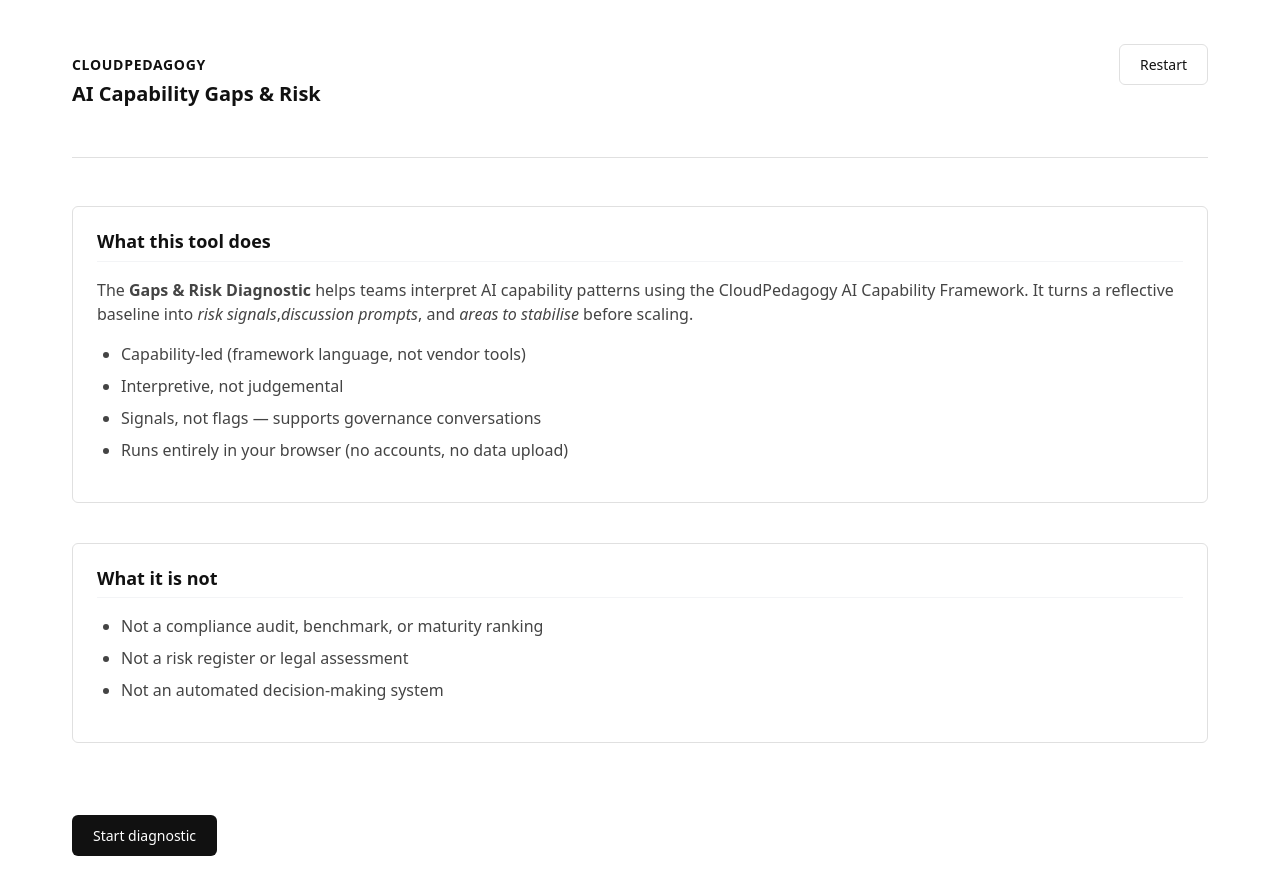
Application End-to-End Workflow & Navigation › toggles 'Why this matters' expandable panel on ResultsView
Click the button "Start diagnostic" at (144, 836), box [72,815,217,856]
(page scrolled)
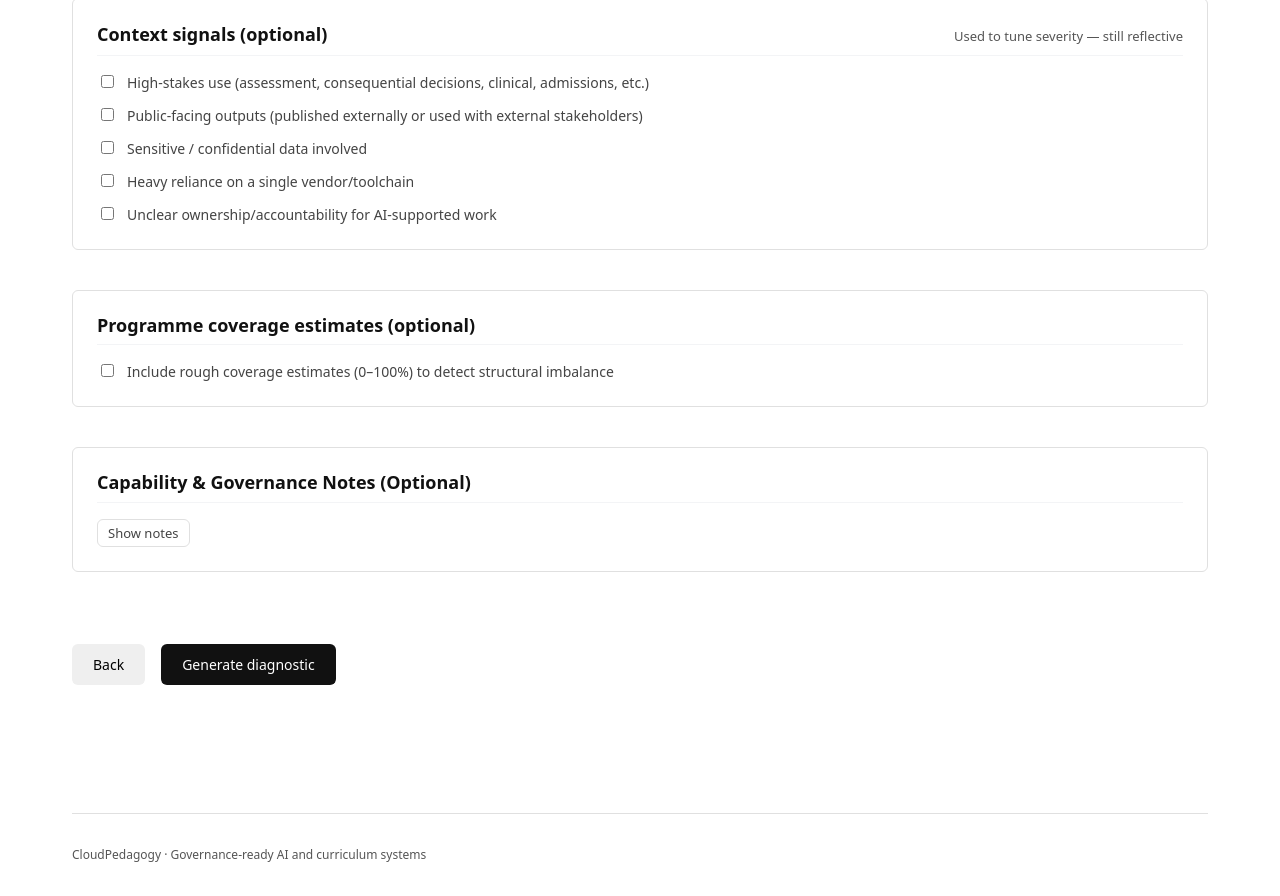
Click the button "Generate diagnostic" at (248, 664), box [161,644,336,685]
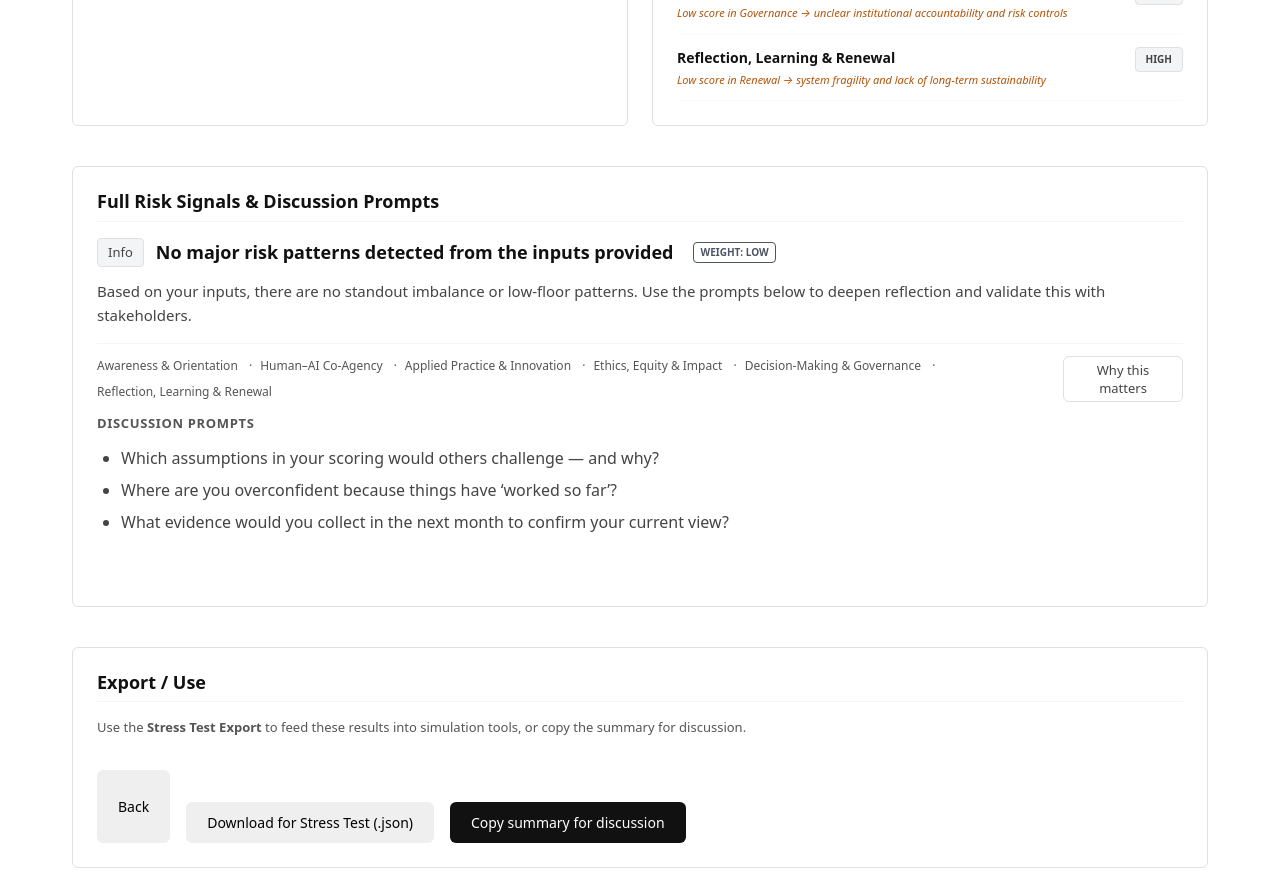
Expected: the button "Why this matters" is shown
Click the button "Why this matters" at (1123, 379), box [1063,356,1183,402]
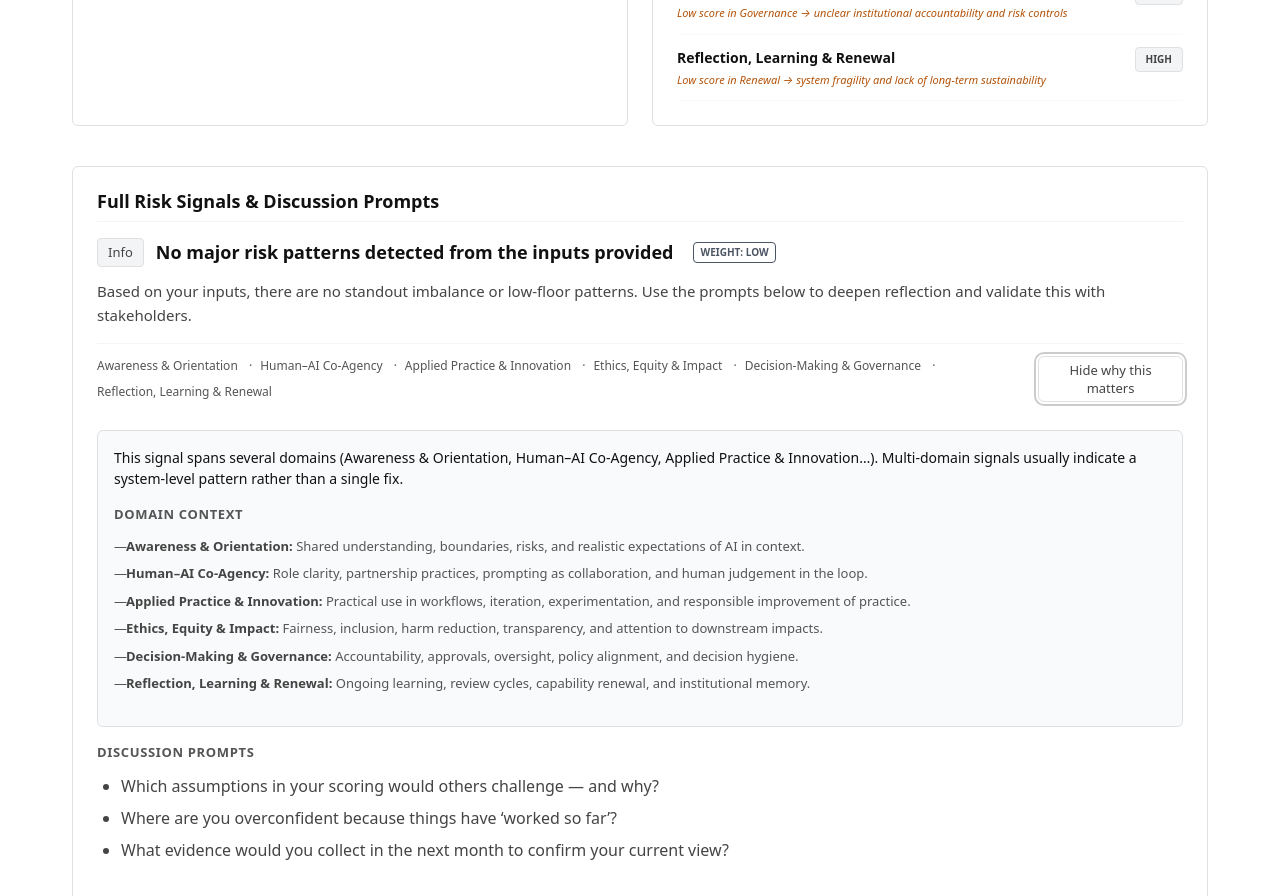
Expected: the button "why this matters" no longer shows "Why this matters"
